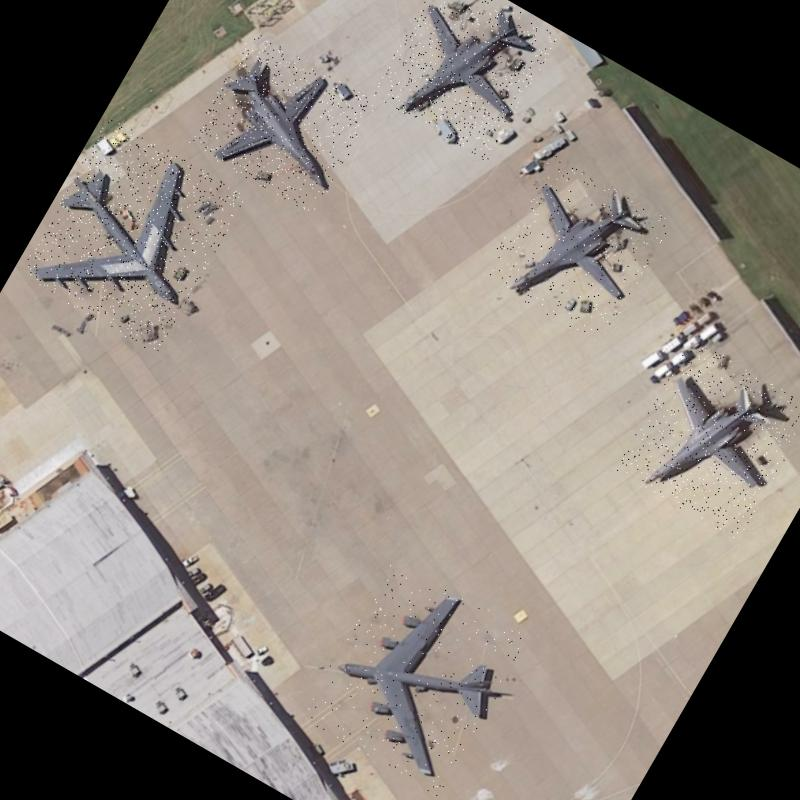A10: (614, 337, 800, 541), (480, 153, 674, 347), (188, 31, 378, 217), (370, 0, 560, 162)
A8: (300, 558, 531, 798), (18, 116, 247, 354)
